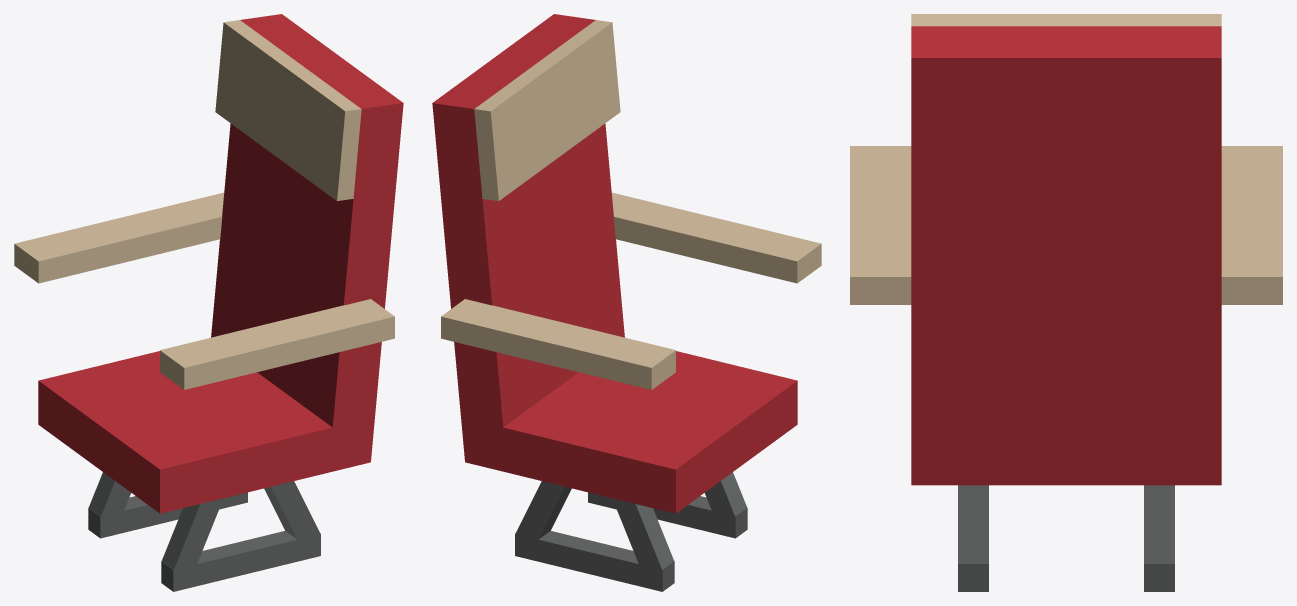
Rendered from chair.fbx.
3 renders of one model, left to right at view 1: azimuth 30°, elevation 25°; view 2: azimuth 150°, elevation 25°; view 3: azimuth 270°, elevation 25°, orthographic. The views are drawn at different scales.
Parts seen in each view (by area): view 1: Cube.001, Cube, Cube.002, Cube.004, Cube.003, Cube.009, Cube.008; view 2: Cube.001, Cube, Cube.002, Cube.003, Cube.004, Cube.008, Cube.009; view 3: Cube.001, Cube.003, Cube.004, Cube.002, Cube.008, Cube.009.
Part boxes in pixels (x1,y1,x2,y2): Cube.001: (211, 14, 403, 459); Cube: (38, 351, 370, 513); Cube.002: (215, 20, 361, 200); Cube.004: (160, 299, 394, 389); Cube.003: (14, 192, 224, 283); Cube.009: (161, 481, 320, 591); Cube.008: (88, 472, 247, 538); Cube.001: (432, 14, 624, 459); Cube: (465, 351, 797, 513); Cube.002: (474, 20, 620, 200); Cube.003: (441, 299, 675, 389); Cube.004: (611, 192, 821, 283); Cube.008: (515, 481, 674, 591); Cube.009: (588, 472, 747, 538); Cube.001: (911, 26, 1221, 484); Cube.003: (1221, 146, 1282, 304); Cube.004: (850, 146, 911, 304); Cube.002: (911, 14, 1221, 26); Cube.008: (1144, 485, 1174, 591); Cube.009: (958, 485, 988, 591).
Bounding box in the file's own units: 116 × 207 × 140.
